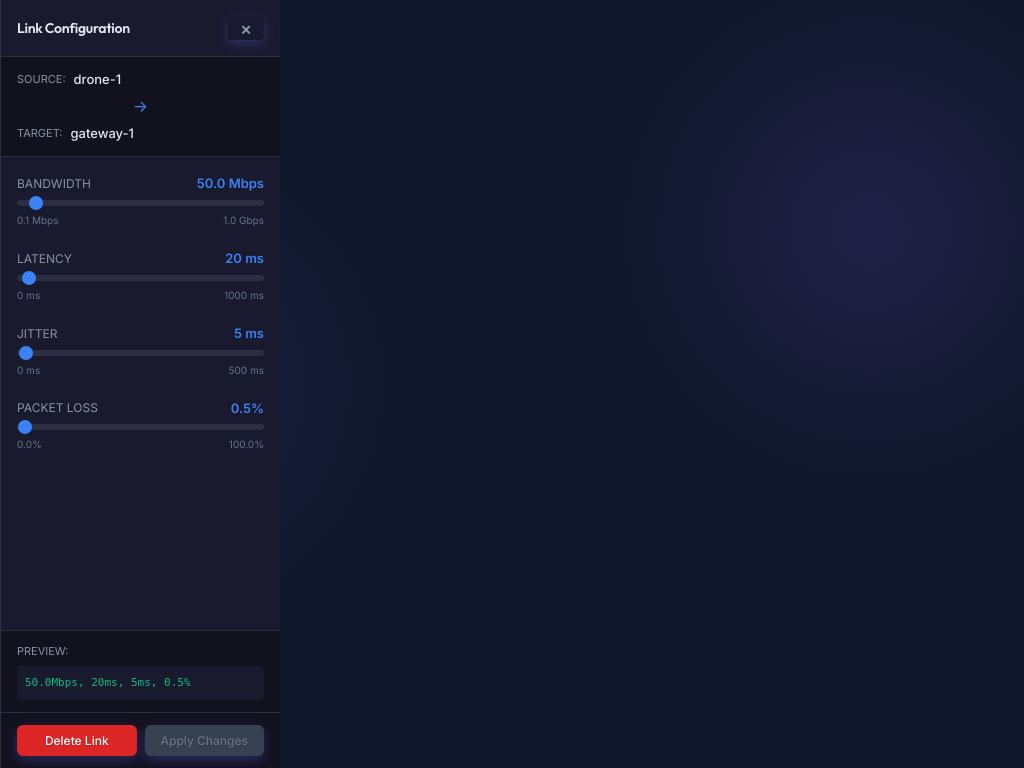
Test: LinkConfigPanel › Interactions › hides unsaved changes notice after applying
Step 1. Set the slider below "50.0 Mbps" to "200" → (71,203), box [17,200,264,206]
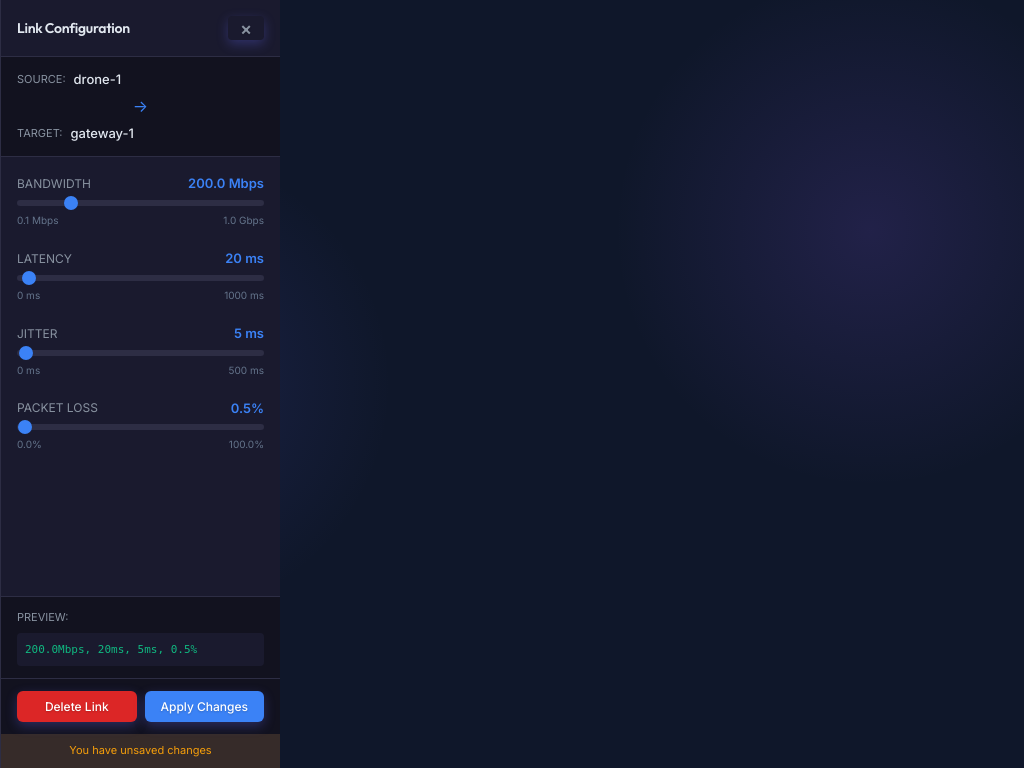
Step 2. Click the button "Apply Changes" → (204,707), box [144,691,264,722]
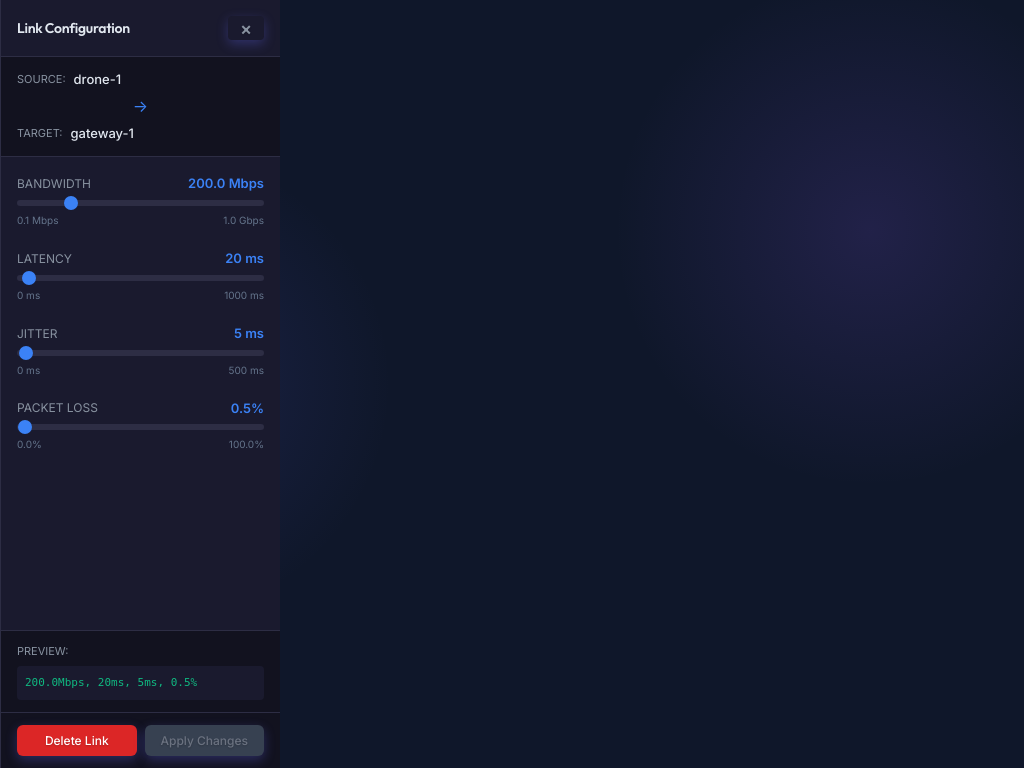
Expected: the text "You have unsaved changes" is gone
